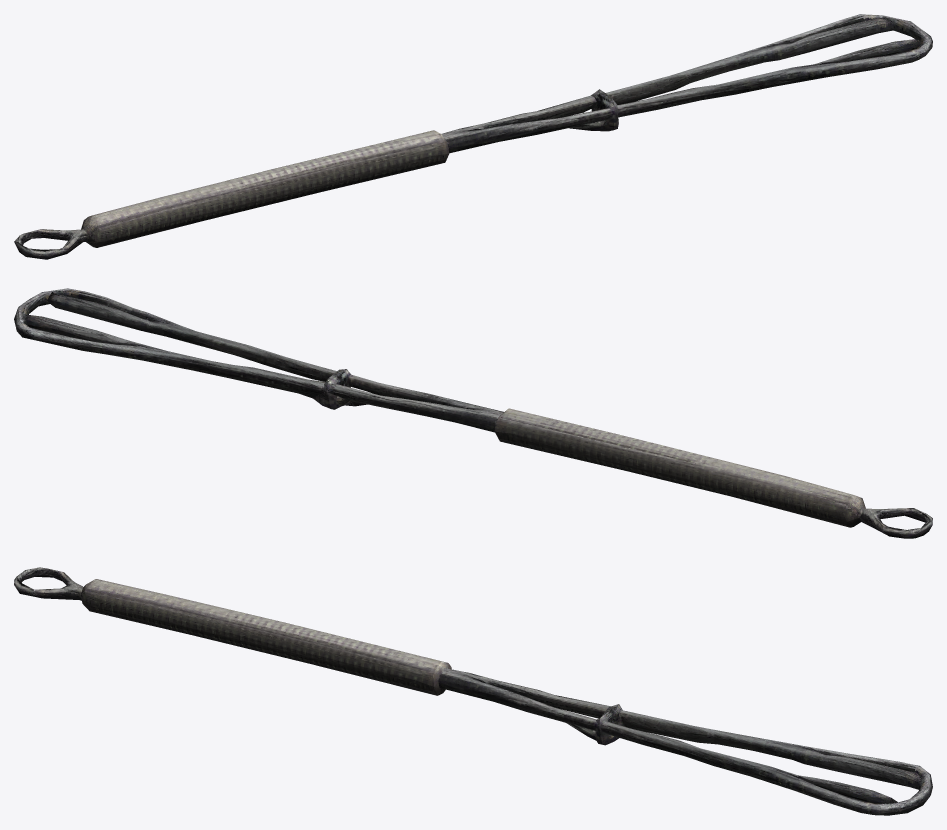
Rendered from MiniBarWhisks .glb.
3 renders of one model, top to bottom at view 1: azimuth 30°, elevation 25°; view 2: azimuth 150°, elevation 25°; view 3: azimuth 330°, elevation 25°, orthographic.
Visible parts, largest first — view 1: world; view 2: world; view 3: world.
Boxes of the visible parts, left/top/right/bottom form: world: left=14, top=14, right=932, bottom=259; world: left=14, top=288, right=932, bottom=538; world: left=14, top=567, right=932, bottom=815.
Bounding box in the file's own units: 0.9991 × 0.0409 × 0.1083.
Materials: 1 (1 with a texture image).
